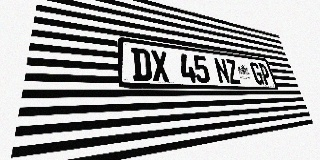4: (178, 53, 197, 83)
5: (193, 55, 211, 83)
D: (131, 47, 153, 81)
G: (249, 62, 265, 85)
N: (213, 58, 231, 84)
P: (258, 63, 273, 85)
X: (150, 50, 170, 82)
Z: (225, 59, 241, 84)
